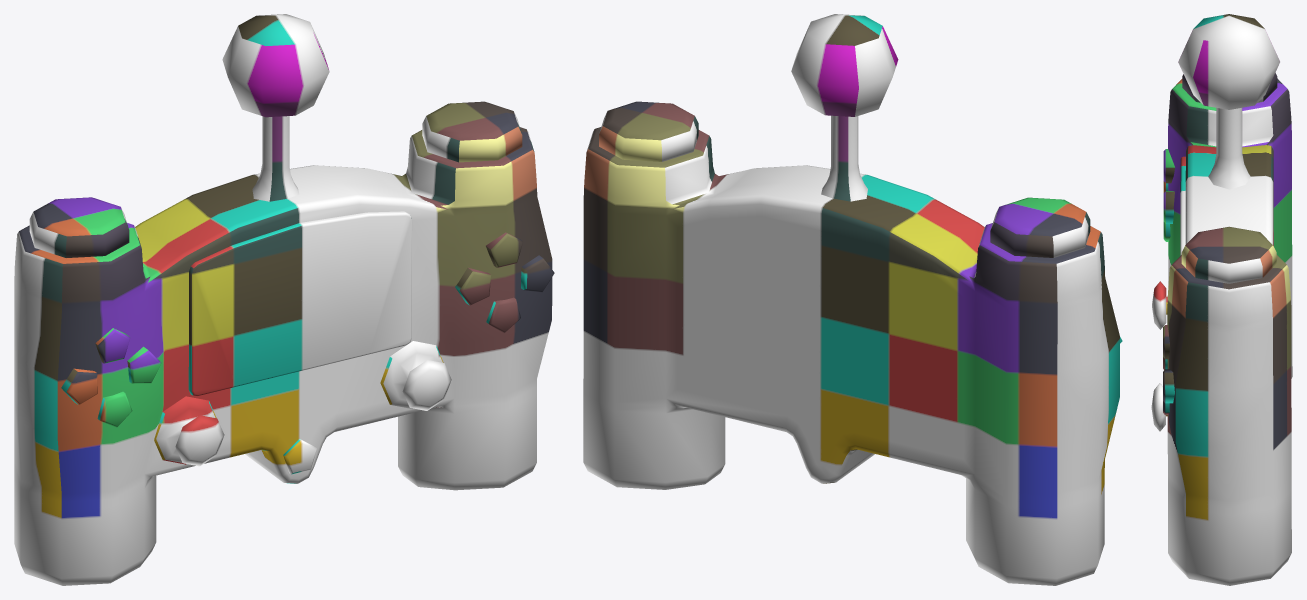
File: Controller.fbx
3 renders of one model, left to right at view 1: azimuth 30°, elevation 25°; view 2: azimuth 150°, elevation 25°; view 3: azimuth 270°, elevation 25°, orthographic. The views are drawn at different scales.
Parts seen in each view (by area): view 1: Controller; view 2: Controller; view 3: Controller.
Part boxes in pixels (x1,y1,x2,y2): Controller: [14, 14, 554, 585]; Controller: [583, 14, 1122, 585]; Controller: [1151, 14, 1292, 585].
Bounding box in the file's own units: 23.72 × 22.11 × 6.12.
